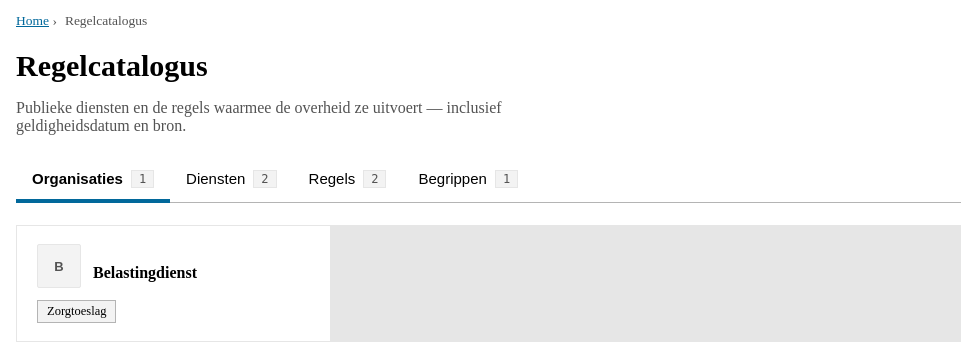
Test case: Regelcatalogus › Rules tab: a service with no matching rule disappears entirely while filtering
Click the tab "Regels 2" at (347, 181), box [292,159,402,203]
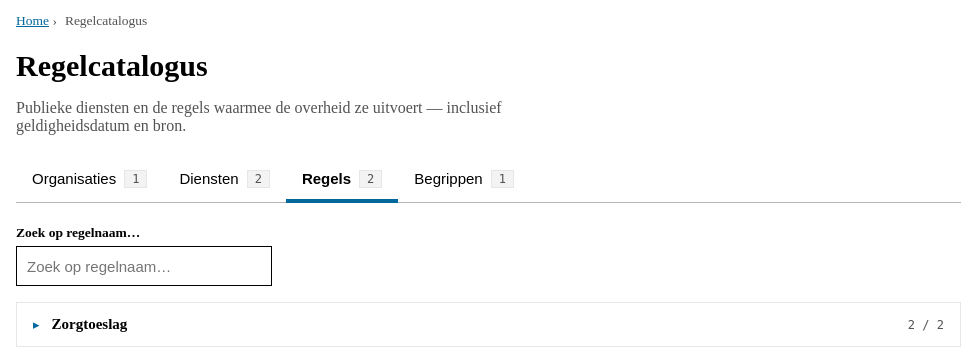
Type "zzzz" into the search field labelled "Zoek op regelnaam…" at (144, 266), box [16,246,272,286]
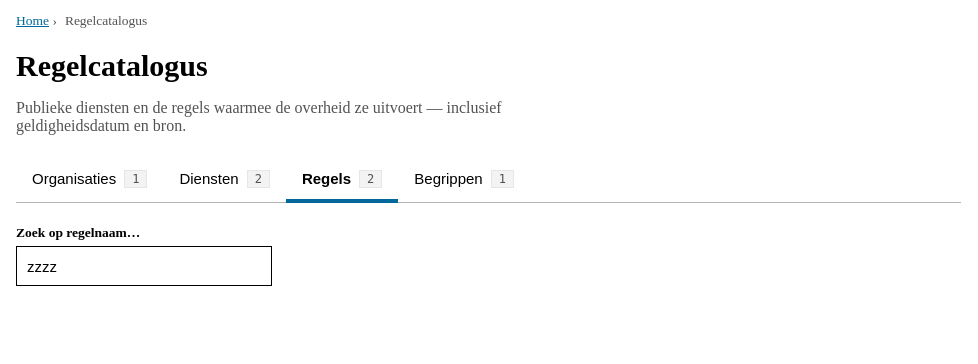
Expected: the heading "Zorgtoeslag" is gone
